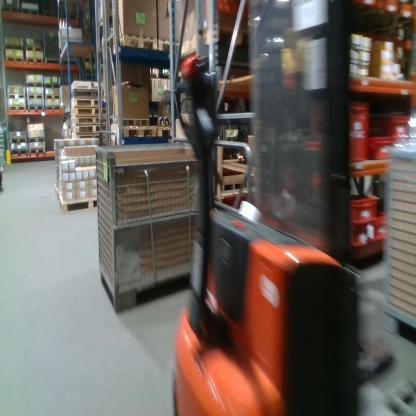pallet: (115, 35, 157, 54), (59, 196, 98, 214), (122, 124, 157, 140), (71, 107, 100, 118), (157, 38, 176, 53), (71, 89, 99, 99), (71, 126, 100, 135), (222, 181, 245, 192), (71, 118, 100, 126), (71, 99, 100, 107), (25, 57, 44, 64), (11, 148, 27, 156), (5, 44, 23, 51), (25, 45, 43, 52), (6, 56, 24, 63), (26, 93, 44, 100), (8, 105, 26, 112), (28, 148, 46, 155), (27, 81, 44, 88), (71, 135, 100, 139), (7, 93, 26, 99), (27, 105, 45, 111), (45, 105, 62, 111), (28, 137, 45, 143), (10, 137, 27, 143), (44, 83, 60, 89), (45, 94, 61, 99)
pallet_truck: (169, 0, 410, 414)
small_load_carrier: (350, 101, 369, 164), (376, 114, 407, 152), (345, 195, 376, 229), (364, 137, 395, 164), (350, 220, 375, 251), (374, 213, 393, 246)
stillage: (96, 142, 193, 312), (378, 103, 416, 342)
